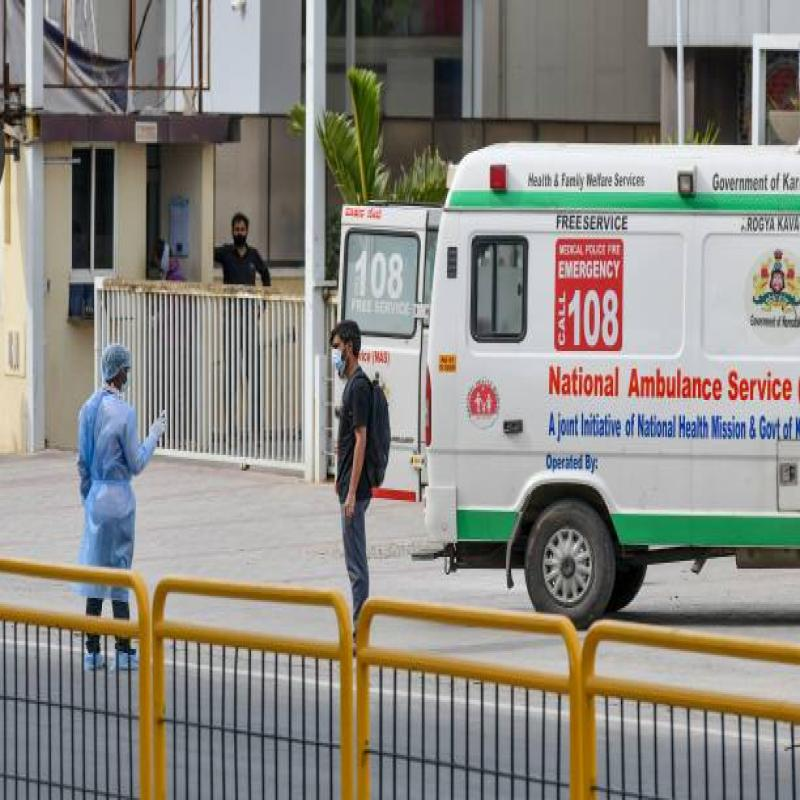ambulance: (423, 158, 800, 584)
